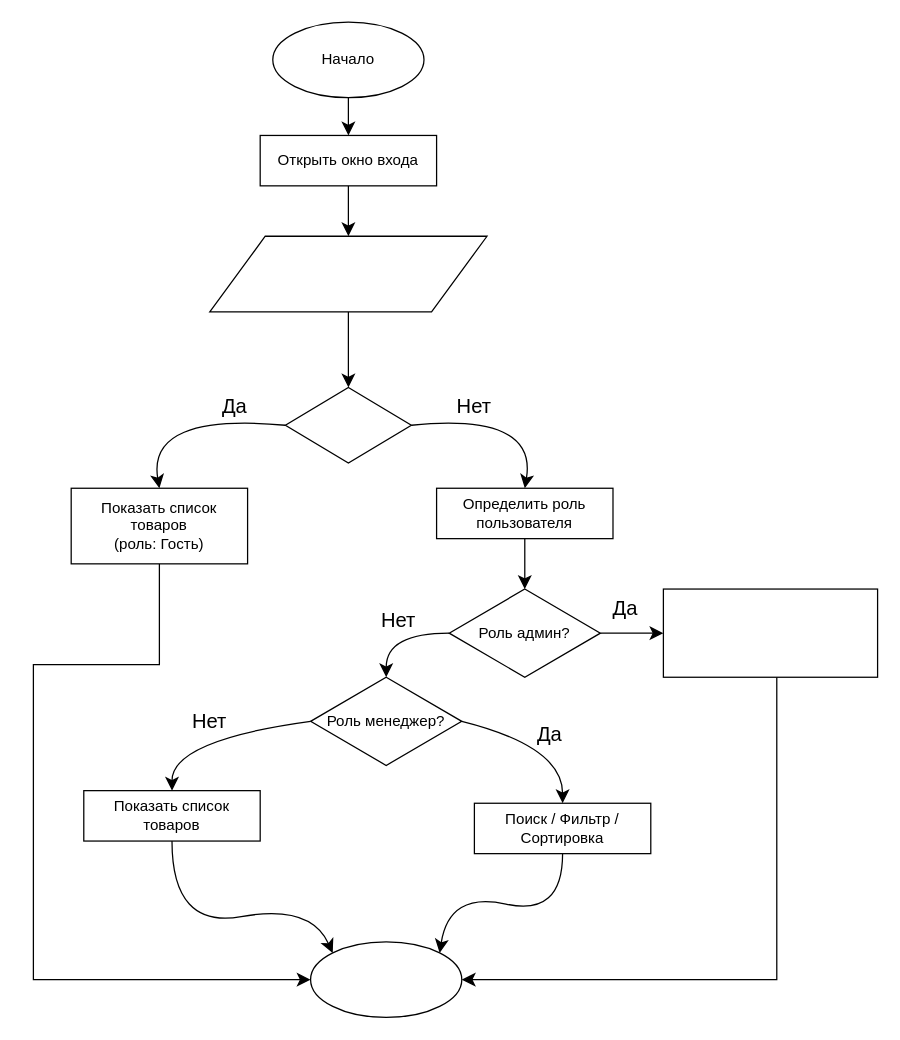
The diagram is 900 pixels wide and 1040 high, and some of its shapes have lost their labels. The shapes that lost their labels are listed below. From the top down, each one's centre as x and y in pixels, then its label:
pixel 348 273: Ввод логина и пароля или Выбор "Войти как гость"
pixel 347 424: Гость?
pixel 770 632: Поиск / Фильтр / Сортировка / Удаление / Редактирование / Добавление
pixel 385 979: Выход
